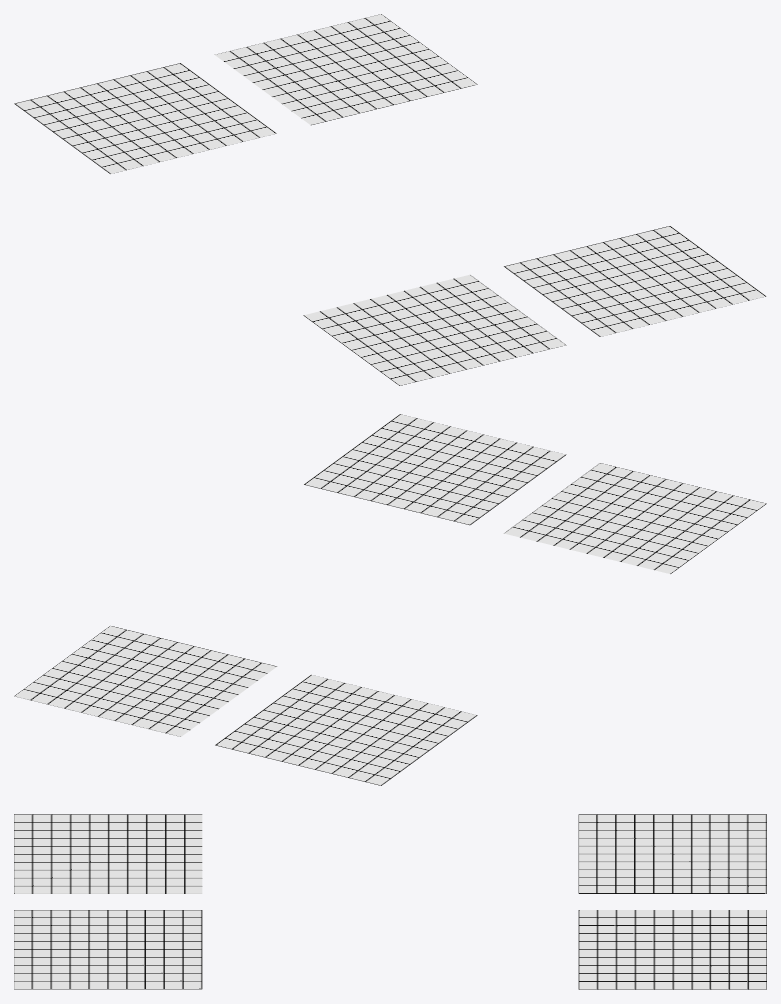
The model's file is gameTest.gltf.
The picture shows the model from 3 angles, top to bottom: view 1: azimuth 30°, elevation 25°; view 2: azimuth 150°, elevation 25°; view 3: azimuth 270°, elevation 25°; orthographic projection. The views are drawn at different scales.
Visible parts, largest first — view 1: PlanePlayer1Enemy, PlanePlayer2Enemy, PlanePlayer1, PlanePLayer2; view 2: PlanePlayer1, PlanePLayer2, PlanePlayer1Enemy, PlanePlayer2Enemy; view 3: PlanePlayer1, PlanePlayer1Enemy, PlanePlayer2Enemy, PlanePLayer2.
Boxes of the visible parts, x1,y1,x2,y2 form: PlanePlayer1Enemy: [214, 14, 477, 125]; PlanePlayer2Enemy: [303, 274, 566, 385]; PlanePlayer1: [14, 63, 276, 173]; PlanePLayer2: [504, 226, 766, 336]; PlanePlayer1: [214, 674, 477, 785]; PlanePLayer2: [303, 414, 566, 525]; PlanePlayer1Enemy: [14, 626, 276, 736]; PlanePlayer2Enemy: [504, 463, 766, 573]; PlanePlayer1: [578, 814, 766, 893]; PlanePlayer1Enemy: [578, 910, 766, 989]; PlanePlayer2Enemy: [14, 814, 202, 893]; PlanePLayer2: [14, 910, 202, 989].
Bounding box in the file's own units: 22 × 0 × 40.
2 materials, 2 textured.
